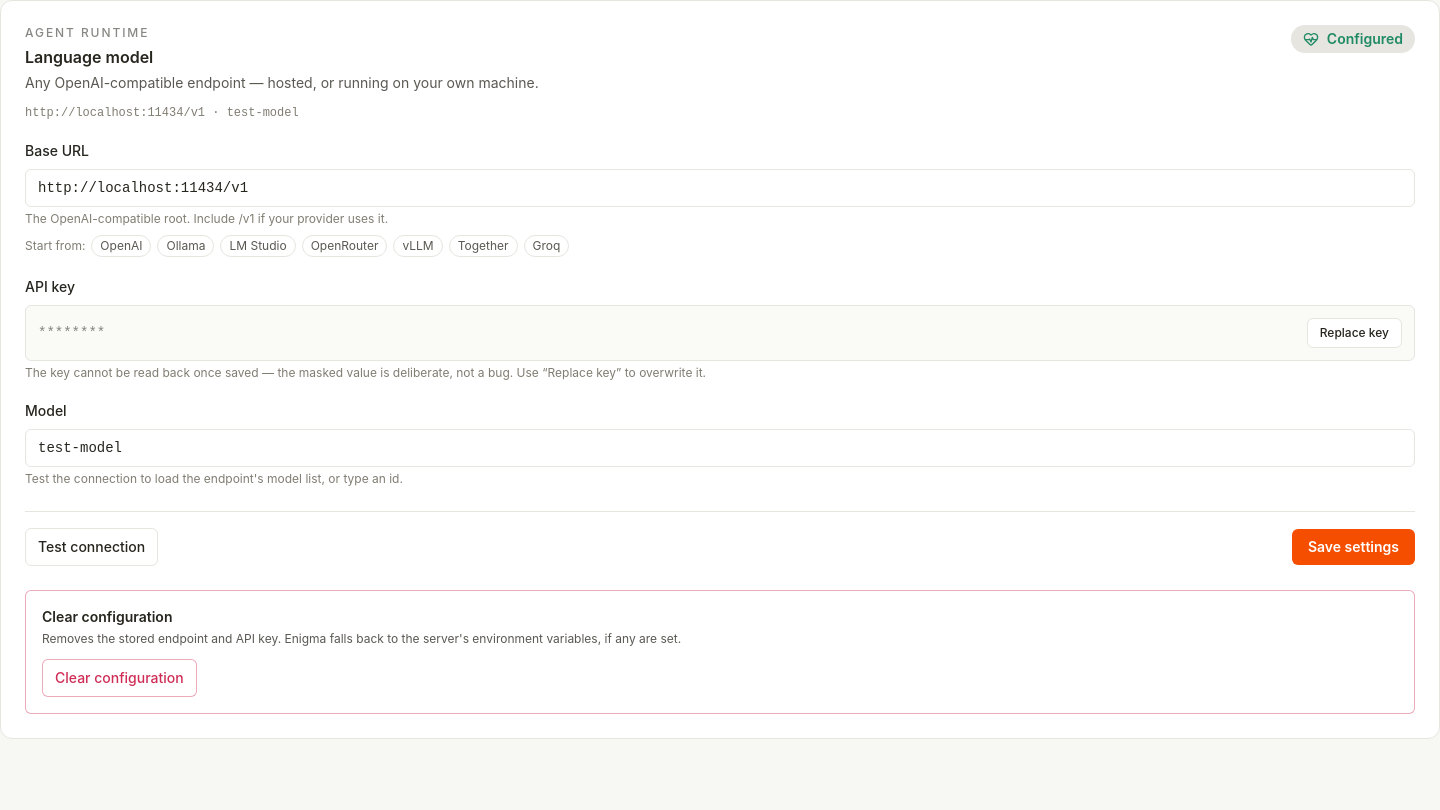
LlmSettingsPanel › explains the container localhost trap when a local endpoint is refused
Step 1. Click the button "Test connection" → (92, 547), box [25, 528, 158, 566]
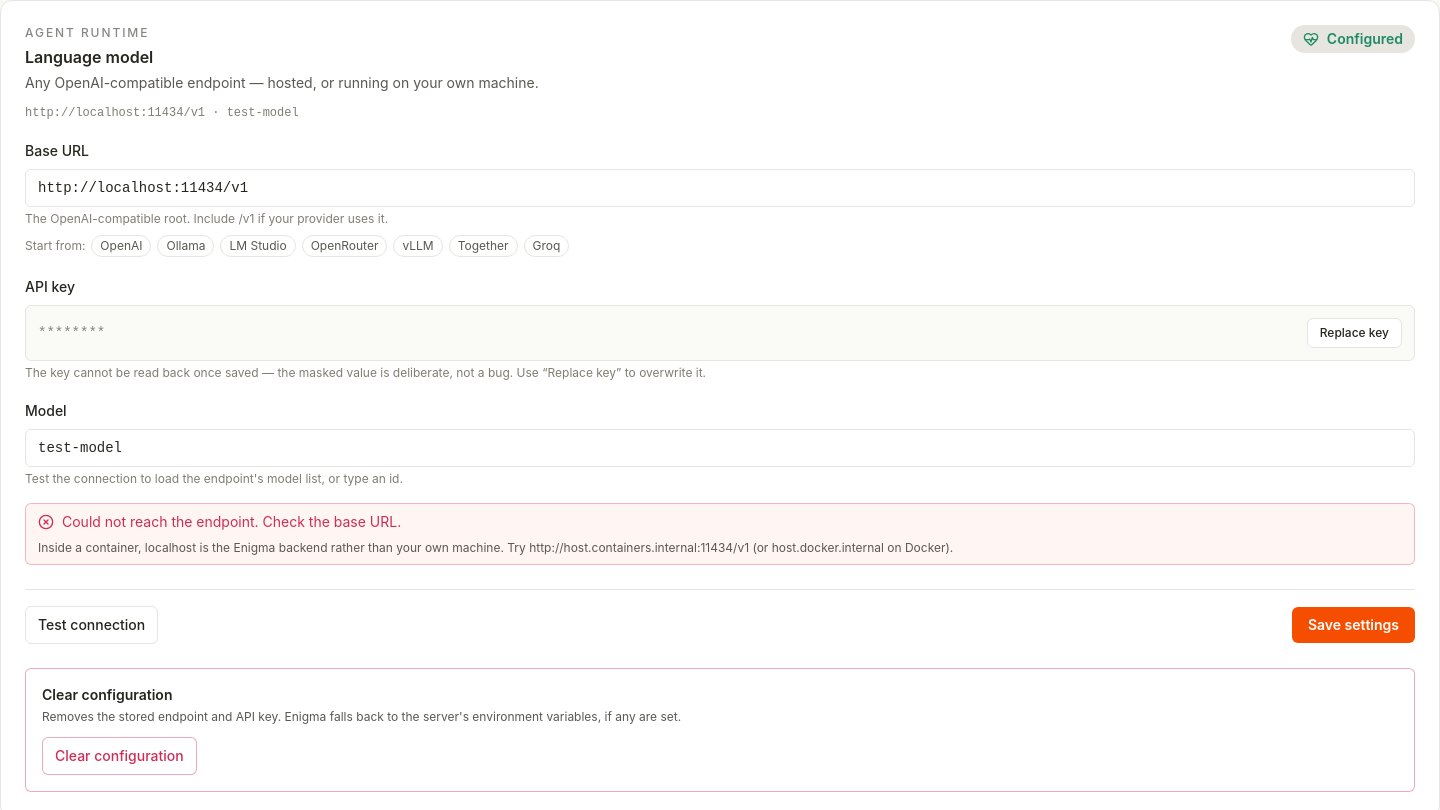
Now the text "host.containers.internal" is shown, box [38, 540, 953, 555]
